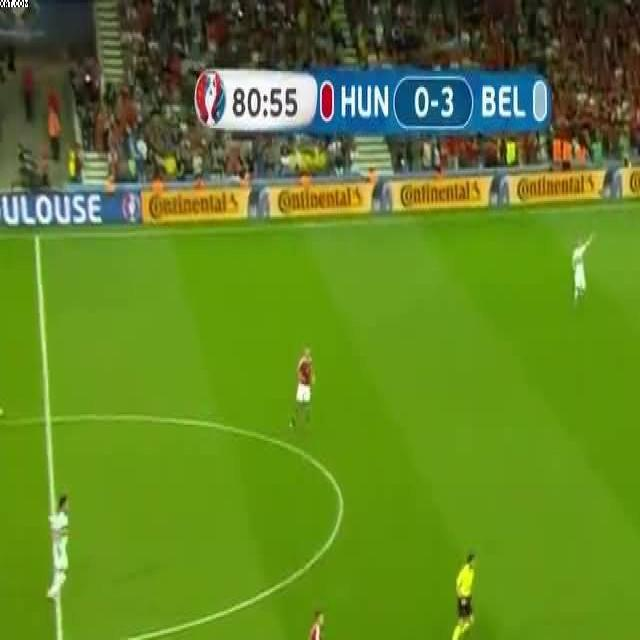player-white: (447, 549, 475, 640), (289, 346, 316, 428), (48, 496, 69, 600), (572, 232, 594, 311), (302, 609, 333, 640)
